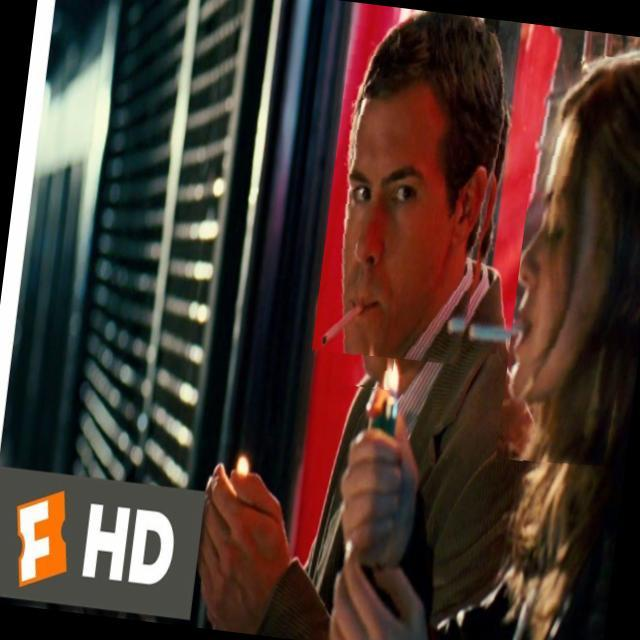cigarette: (330, 290, 404, 390), (456, 302, 552, 359)
